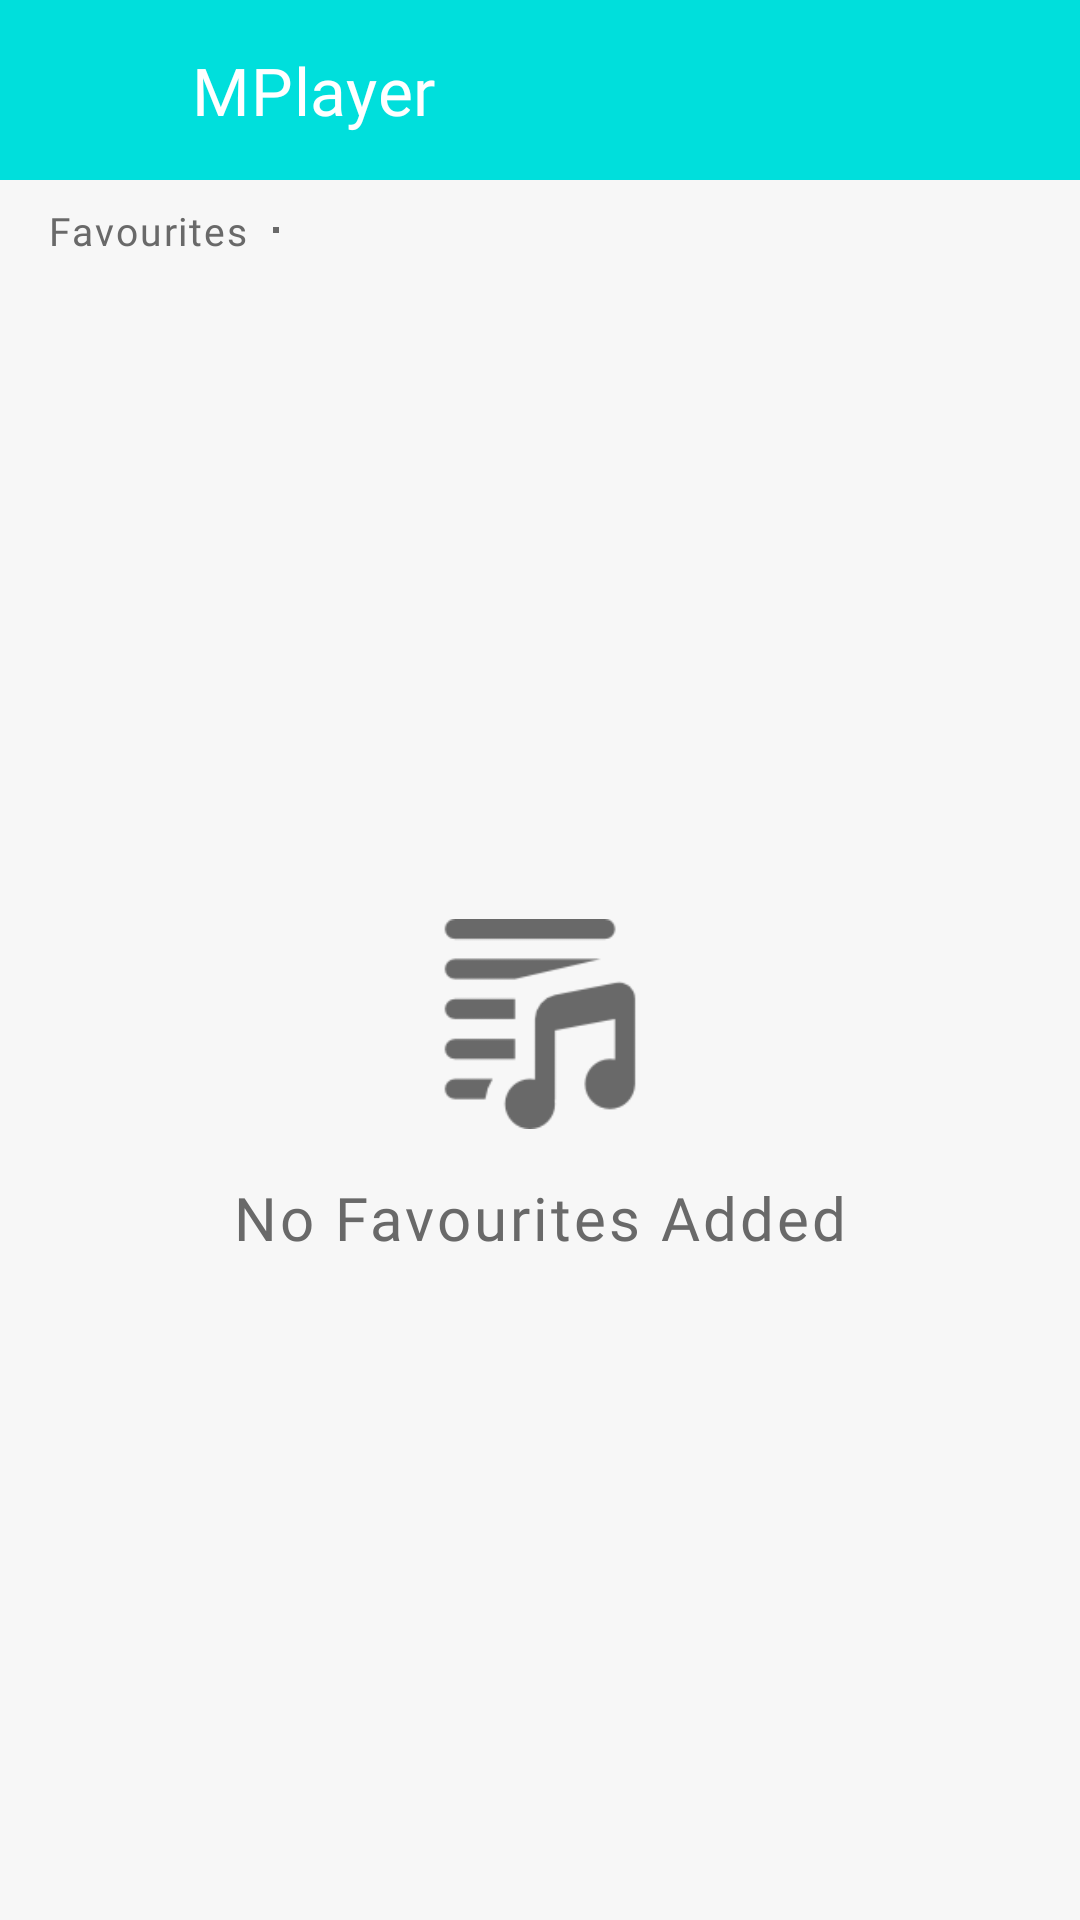

Where icons sit on this 1080×1920 app screen, as (x1, y1, x2, y2):
song playlist: (444, 919, 636, 1129)
